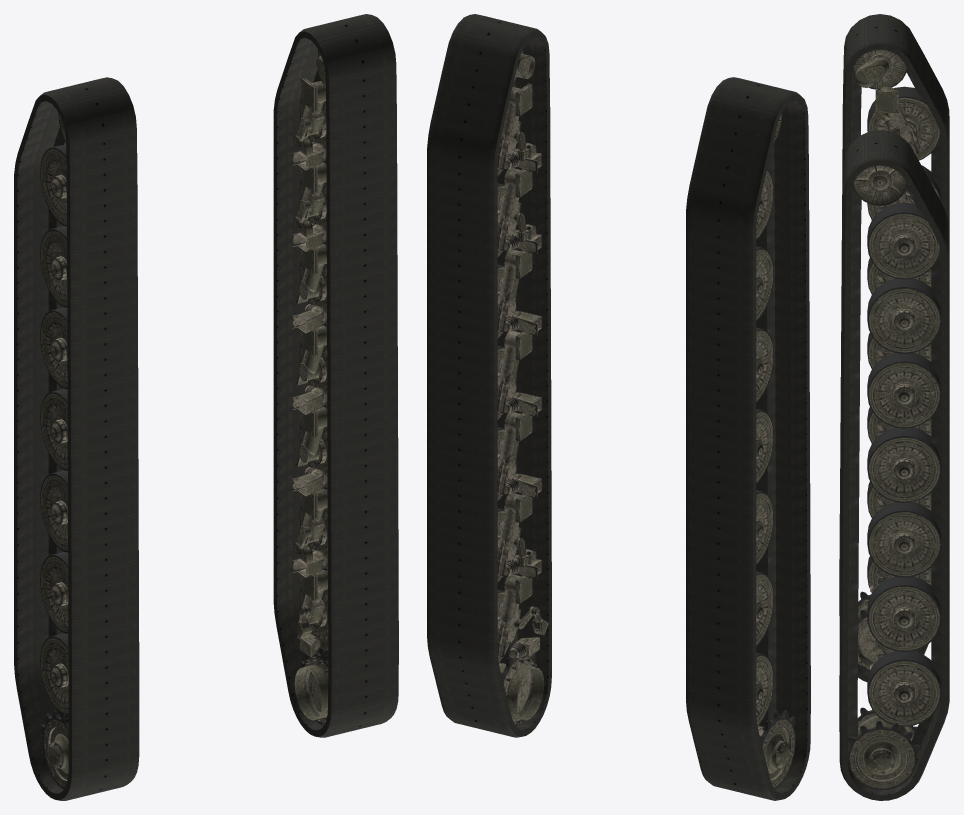
The model's file is Chassis.glb.
3 views of the same model, side by side, from view 1: azimuth 30°, elevation 25°; view 2: azimuth 150°, elevation 25°; view 3: azimuth 270°, elevation 25° (orthographic). The views are drawn at different scales.
Visible parts, largest first — view 1: set_1_group_0, set_0_group_0, set_3_group_0, set_2_group_0; view 2: set_1_group_0, set_0_group_0, set_3_group_0, set_2_group_0; view 3: set_3_group_0, set_0_group_0, set_2_group_0, set_1_group_0.
Part boxes in pixels (bbox=[...]): set_1_group_0: bbox=[14, 77, 139, 800]; set_0_group_0: bbox=[273, 14, 398, 737]; set_3_group_0: bbox=[292, 50, 328, 725]; set_2_group_0: bbox=[40, 113, 68, 789]; set_1_group_0: bbox=[686, 77, 810, 800]; set_0_group_0: bbox=[427, 14, 551, 737]; set_3_group_0: bbox=[497, 50, 548, 725]; set_2_group_0: bbox=[756, 113, 795, 789]; set_3_group_0: bbox=[847, 165, 941, 789]; set_0_group_0: bbox=[839, 130, 949, 800]; set_2_group_0: bbox=[853, 49, 941, 671]; set_1_group_0: bbox=[839, 14, 949, 682].
Size of the model in its own units: 3.4 by 7.01 by 1.09.
4 materials, 4 textured.
